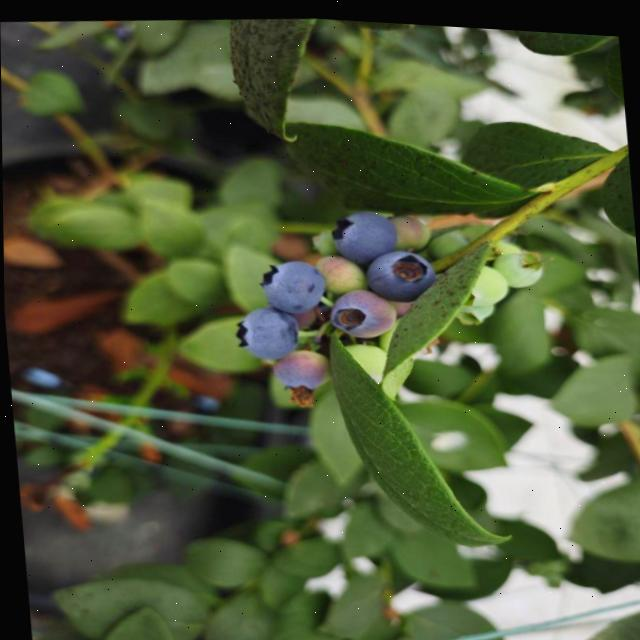RipeBlueBerry: (254, 250, 328, 315), (325, 201, 400, 262), (365, 241, 438, 301), (230, 300, 301, 359)
Semi-RipeBlueBerry: (326, 280, 398, 338), (267, 341, 331, 391)
